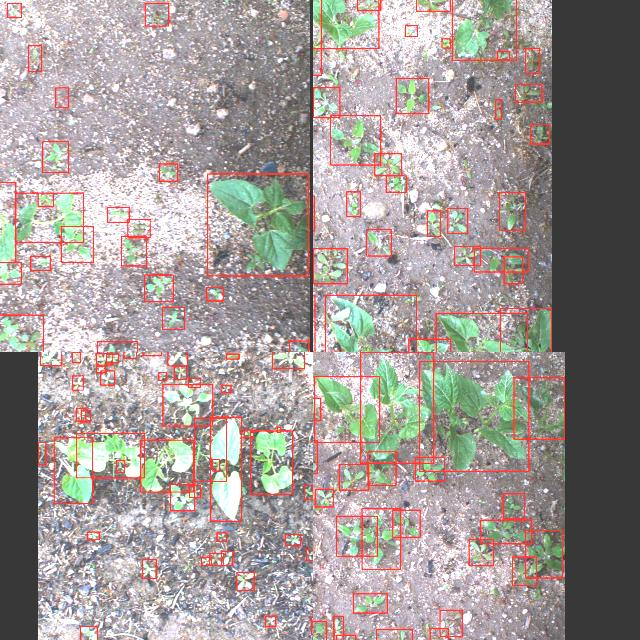crop: (419, 361, 529, 471), (208, 173, 308, 275), (360, 352, 433, 462), (324, 294, 415, 352), (313, 376, 379, 442), (451, 0, 516, 59), (435, 312, 527, 352), (13, 192, 82, 242), (76, 432, 144, 478), (313, 0, 378, 48), (210, 416, 240, 520), (514, 378, 564, 438), (140, 439, 192, 491), (250, 431, 292, 494), (52, 437, 92, 503), (500, 307, 551, 352), (0, 182, 15, 262), (408, 339, 450, 352)
weed: (330, 114, 380, 164), (362, 508, 401, 568), (162, 384, 212, 426), (194, 418, 226, 480), (526, 529, 562, 577), (0, 314, 43, 352), (336, 515, 376, 555), (474, 247, 528, 271), (313, 248, 347, 284), (481, 519, 532, 543), (60, 226, 92, 262), (396, 78, 428, 112), (499, 192, 525, 230), (367, 451, 395, 485), (42, 140, 68, 172), (392, 509, 420, 537), (120, 235, 146, 265), (313, 87, 339, 117), (338, 463, 368, 489), (144, 274, 172, 300), (414, 456, 444, 480), (468, 539, 494, 565), (512, 556, 536, 584), (170, 484, 194, 511), (366, 229, 390, 255), (352, 594, 386, 612), (374, 153, 401, 175), (144, 2, 168, 26), (439, 610, 461, 636), (503, 256, 522, 284), (502, 494, 524, 518), (272, 352, 304, 368), (162, 307, 184, 329), (447, 208, 467, 232), (454, 246, 480, 264), (515, 83, 541, 101), (127, 218, 149, 238), (0, 261, 20, 283), (97, 341, 137, 352), (376, 628, 412, 640), (530, 123, 550, 143), (416, 0, 450, 11), (346, 190, 360, 216), (106, 206, 128, 222), (426, 210, 439, 236), (525, 48, 539, 72), (236, 571, 254, 589), (314, 488, 332, 506), (386, 175, 406, 191), (28, 45, 40, 71), (159, 163, 177, 180), (39, 352, 61, 365), (30, 256, 50, 270), (54, 87, 68, 107), (142, 558, 156, 578), (167, 352, 187, 365), (333, 615, 343, 640), (289, 340, 309, 352), (313, 620, 325, 640), (79, 626, 96, 640), (357, 0, 380, 10), (206, 286, 222, 300), (429, 628, 447, 640), (38, 192, 52, 206), (6, 2, 20, 16), (100, 370, 114, 384), (37, 442, 45, 464), (209, 552, 223, 564), (285, 534, 301, 544), (95, 354, 111, 364), (405, 24, 417, 36), (173, 366, 185, 378), (188, 485, 200, 497), (222, 551, 232, 565), (72, 375, 82, 389), (313, 397, 319, 420), (304, 484, 312, 500), (495, 99, 501, 119), (264, 616, 276, 626), (106, 352, 118, 362), (75, 408, 85, 420), (80, 409, 90, 421), (188, 378, 200, 387), (496, 51, 509, 59), (313, 439, 316, 473), (216, 532, 226, 542), (87, 531, 99, 539), (305, 548, 313, 560), (211, 458, 219, 470), (116, 460, 124, 472), (335, 635, 354, 640), (442, 38, 451, 48), (201, 556, 211, 564), (243, 429, 253, 437), (71, 352, 79, 362), (122, 352, 135, 357), (222, 384, 230, 392), (158, 372, 166, 380), (226, 354, 238, 358), (96, 366, 104, 372), (276, 426, 280, 432)
